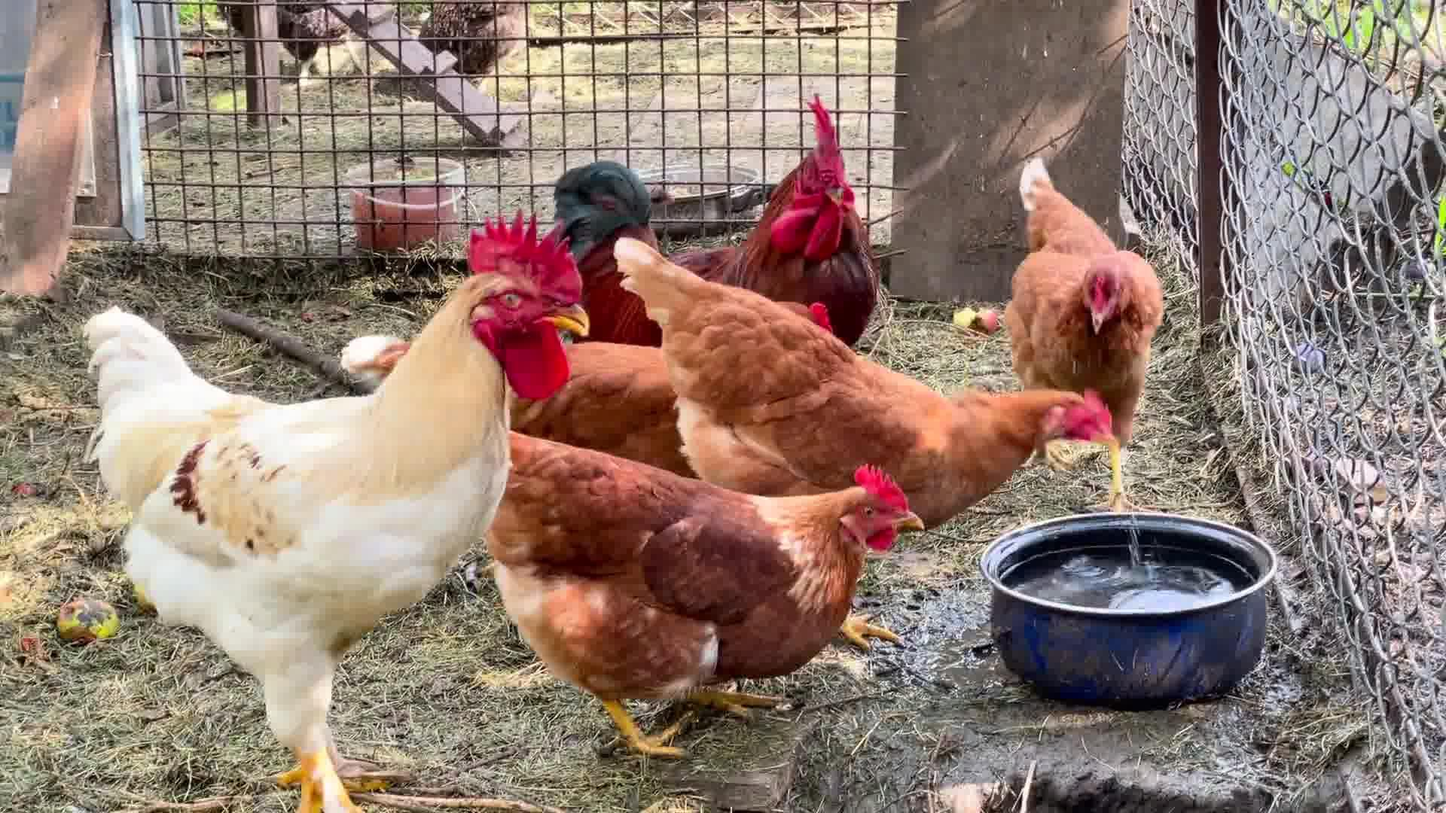Normal: (70, 209, 585, 813), (614, 236, 1134, 545), (501, 429, 926, 764), (546, 96, 909, 354), (995, 160, 1173, 479)
